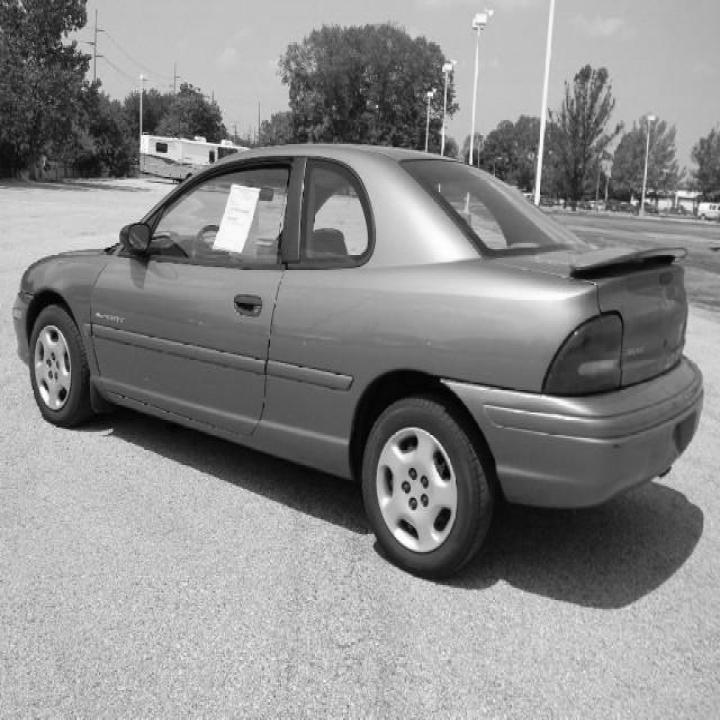car: (12, 142, 704, 578)
